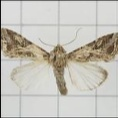Spodoptera litura: (0, 27, 118, 95)
